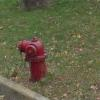Hydrant: (11, 33, 58, 83)
